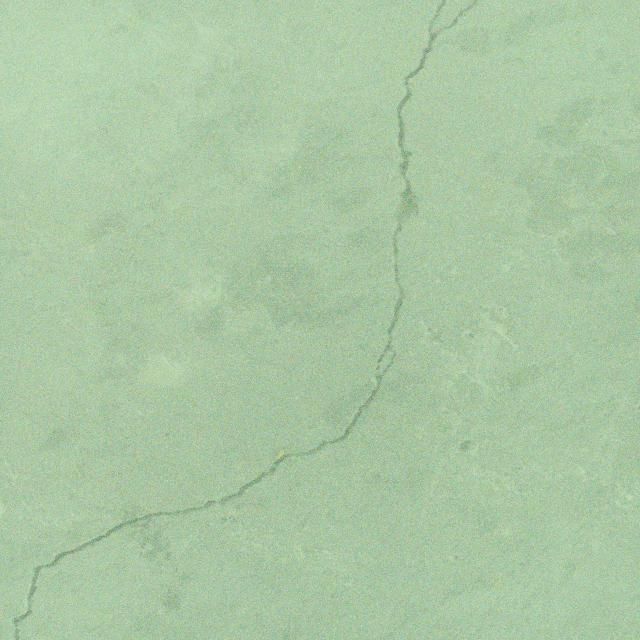crack: (12, 0, 479, 640)
